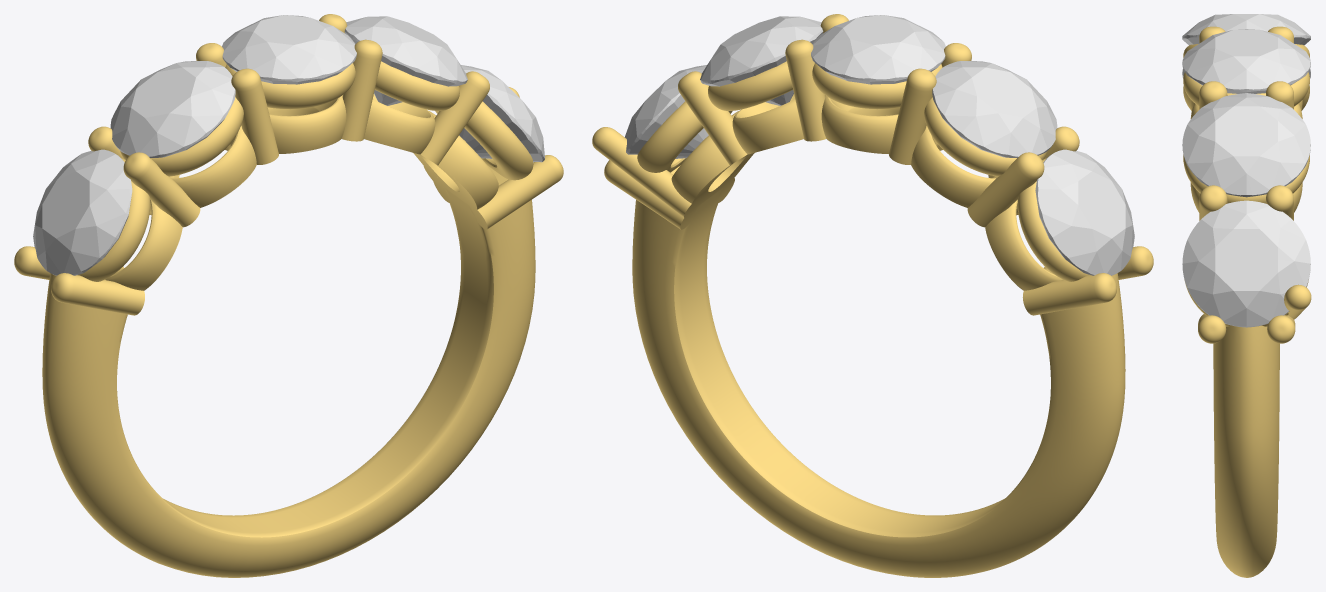
File: NateYGwb2_blender.glb
3 renders of one model, left to right at view 1: azimuth 30°, elevation 25°; view 2: azimuth 150°, elevation 25°; view 3: azimuth 270°, elevation 25°, orthographic. The views are drawn at different scales.
Visible parts, largest first — view 1: Nate wb YG for 3d model, Nate wb dia for 3d model.004, Nate wb dia for 3d model.003, Nate wb dia for 3d model.002, Nate wb dia for 3d model.001, Nate wb dia for 3d model; view 2: Nate wb YG for 3d model, Nate wb dia for 3d model.004, Nate wb dia for 3d model.003, Nate wb dia for 3d model.002, Nate wb dia for 3d model.001, Nate wb dia for 3d model; view 3: Nate wb YG for 3d model, Nate wb dia for 3d model, Nate wb dia for 3d model.001, Nate wb dia for 3d model.002, Nate wb dia for 3d model.003.
Part boxes in pixels (x1,y1,x2,y2): Nate wb YG for 3d model: (14, 14, 563, 577); Nate wb dia for 3d model.004: (33, 149, 132, 275); Nate wb dia for 3d model.003: (110, 61, 235, 158); Nate wb dia for 3d model.002: (222, 15, 356, 84); Nate wb dia for 3d model.001: (344, 16, 467, 105); Nate wb dia for 3d model: (459, 65, 544, 162); Nate wb YG for 3d model: (592, 14, 1153, 577); Nate wb dia for 3d model.004: (1035, 149, 1134, 275); Nate wb dia for 3d model.003: (932, 61, 1057, 158); Nate wb dia for 3d model.002: (811, 15, 945, 84); Nate wb dia for 3d model.001: (700, 16, 823, 105); Nate wb dia for 3d model: (624, 65, 708, 158); Nate wb YG for 3d model: (1183, 26, 1311, 577); Nate wb dia for 3d model: (1182, 200, 1310, 327); Nate wb dia for 3d model.001: (1182, 93, 1310, 197); Nate wb dia for 3d model.002: (1182, 29, 1310, 93); Nate wb dia for 3d model.003: (1182, 14, 1310, 45).
Bounding box in the file's own units: 21.7 × 21.89 × 5.03.
